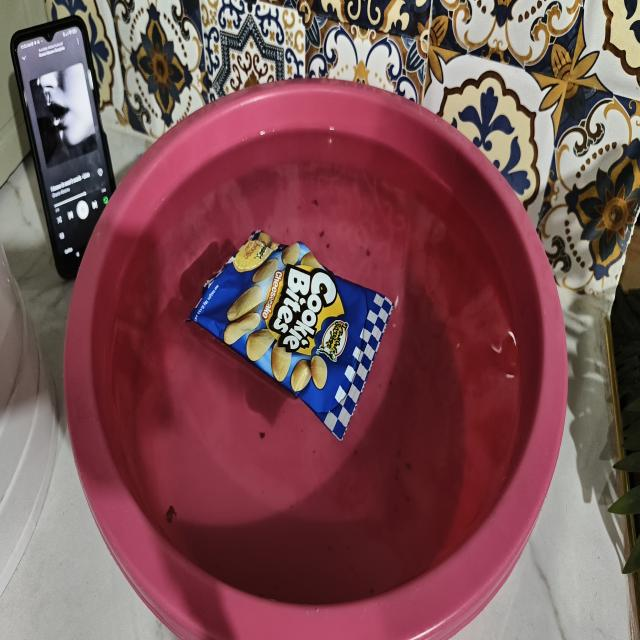Plastic Wrapper: (190, 231, 393, 437)
